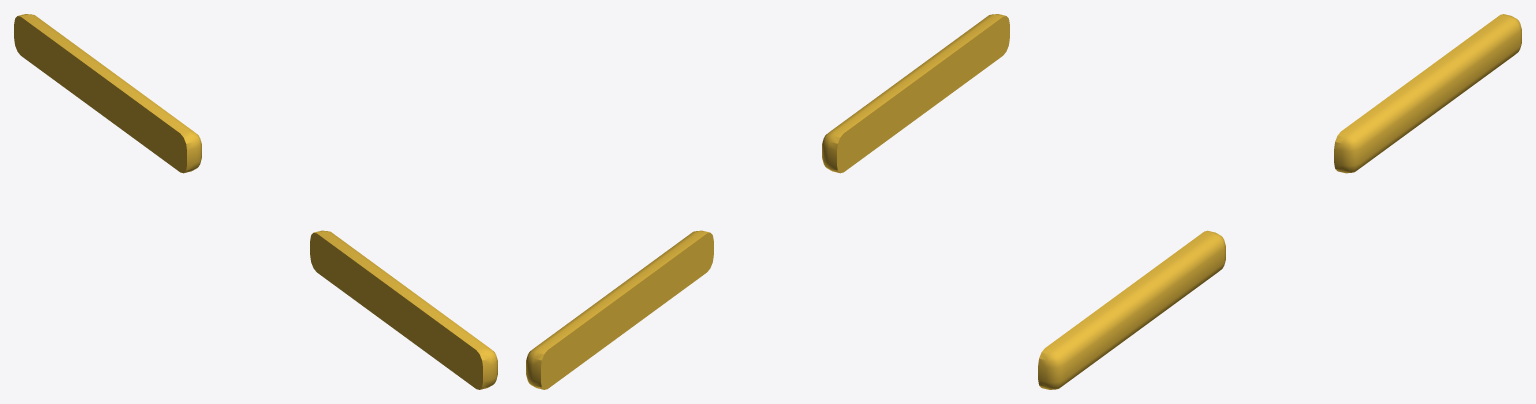
Rendered from Sleep_eye.fbx.
3 renders of one model, left to right at view 1: azimuth 30°, elevation 25°; view 2: azimuth 150°, elevation 25°; view 3: azimuth 330°, elevation 25°, orthographic.
Visible parts, largest first — view 1: Cube.007; view 2: Cube.007; view 3: Cube.007.
Part boxes in pixels (box(x1,y1,x2,y2)): Cube.007: box(14, 14, 497, 389); Cube.007: box(526, 14, 1009, 389); Cube.007: box(1038, 14, 1521, 389).
Bounding box in the file's own units: 6.55 × 12.37 × 269.
